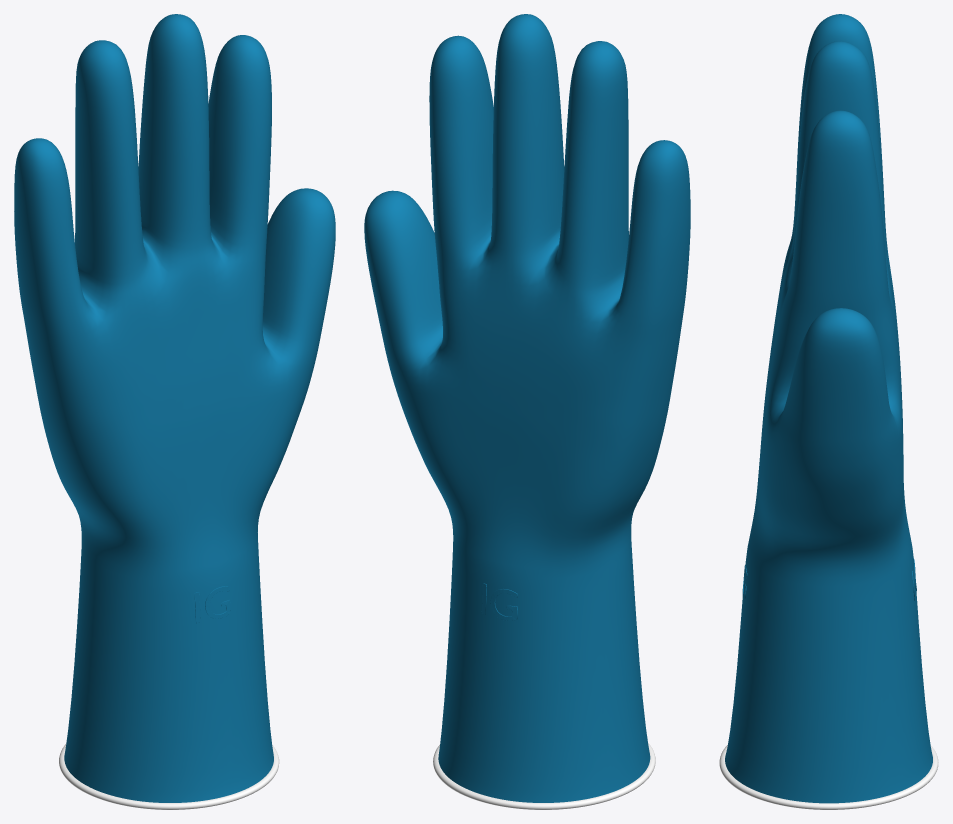
Rendered from diamond-silverlined-latex--blue-silverlined--reveal.glb.
3 views of the same model, side by side, from view 1: azimuth 30°, elevation 25°; view 2: azimuth 150°, elevation 25°; view 3: azimuth 270°, elevation 25° (orthographic). The views are drawn at different scales.
Visible parts, largest first — view 1: pCube8; view 2: pCube8; view 3: pCube8.
Part boxes in pixels (bbox=[...]): pCube8: bbox=[14, 14, 335, 809]; pCube8: bbox=[364, 14, 690, 809]; pCube8: bbox=[719, 14, 938, 809].
Size of the model in its own units: 0.1309 by 0.3003 by 0.0818.
